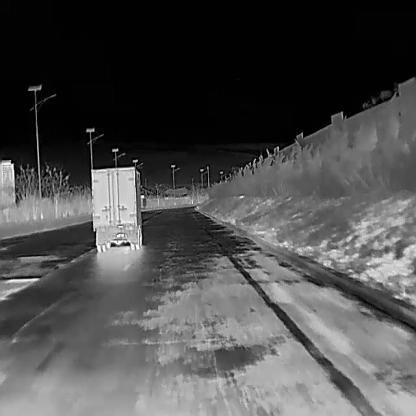car: (90, 165, 146, 253)
